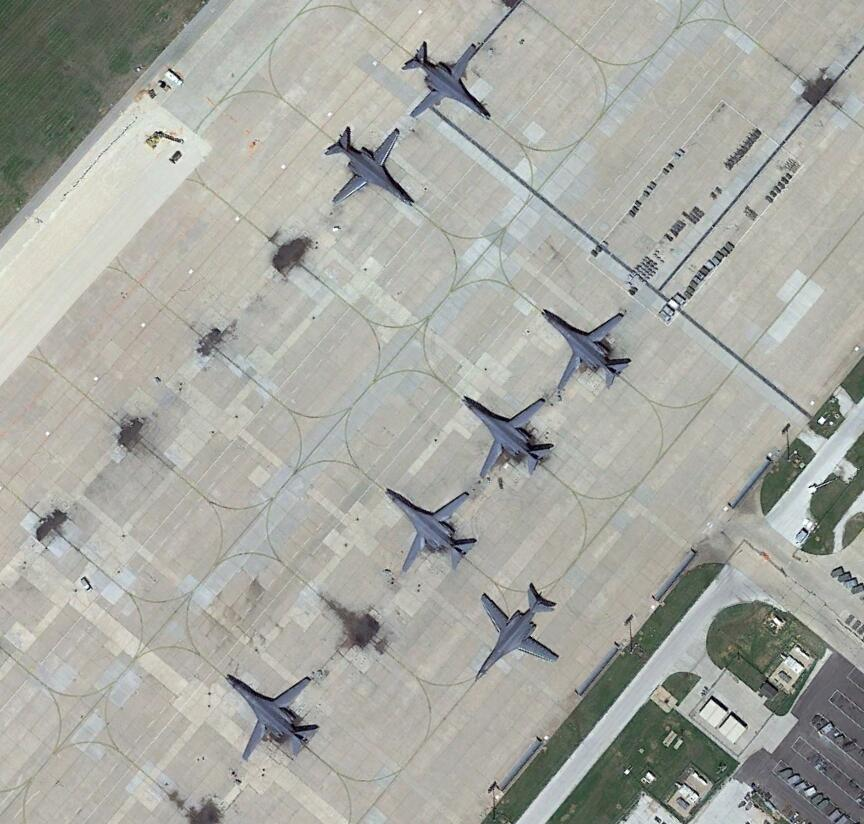A10: (221, 667, 324, 763), (470, 582, 562, 681), (319, 123, 419, 211), (537, 305, 634, 393), (383, 485, 482, 571), (402, 37, 494, 121), (463, 397, 555, 479)
